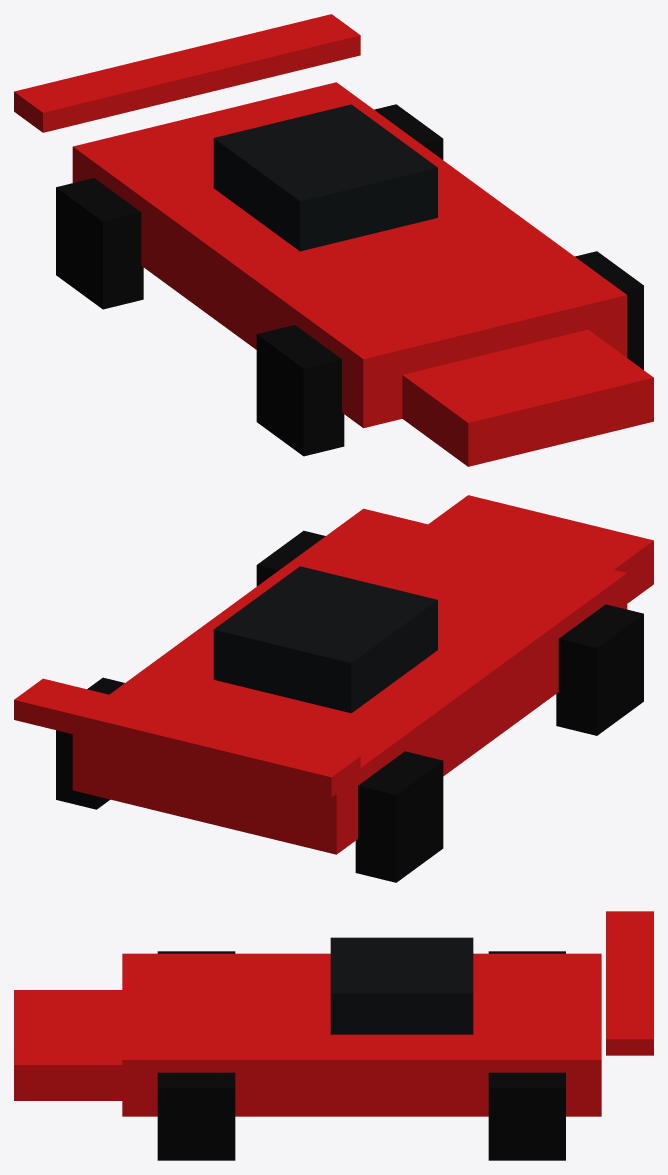
File: BlenderCreatedRacer.obj
3 renders of one model, top to bottom at view 1: azimuth 30°, elevation 25°; view 2: azimuth 150°, elevation 25°; view 3: azimuth 270°, elevation 25°, orthographic. The views are drawn at different scales.
Visible parts, largest first — view 1: low_poly_body, front_nose, cockpit, wheels, rear_wing; view 2: low_poly_body, cockpit, wheels, rear_wing, front_nose; view 3: low_poly_body, wheels, cockpit, front_nose, rear_wing.
Boxes of the visible parts, x1=… form: low_poly_body: x1=72, y1=82, x2=627, y2=428; front_nose: x1=402, y1=329, x2=653, y2=466; cockpit: x1=213, y1=104, x2=437, y2=251; wheels: x1=56, y1=104, x2=643, y2=456; rear_wing: x1=14, y1=14, x2=360, y2=132; low_poly_body: x1=72, y1=508, x2=627, y2=854; cockpit: x1=213, y1=566, x2=437, y2=713; wheels: x1=56, y1=530, x2=643, y2=882; rear_wing: x1=14, y1=678, x2=360, y2=797; front_nose: x1=428, y1=495, x2=653, y2=603; low_poly_body: x1=122, y1=953, x2=601, y2=1116; wheels: x1=157, y1=951, x2=565, y2=1160; cockpit: x1=330, y1=937, x2=473, y2=1034; front_nose: x1=14, y1=990, x2=122, y2=1100; rear_wing: x1=606, y1=911, x2=653, y2=1055.
Bounding box in the file's own units: 2.84 × 1.23 × 5.61.
